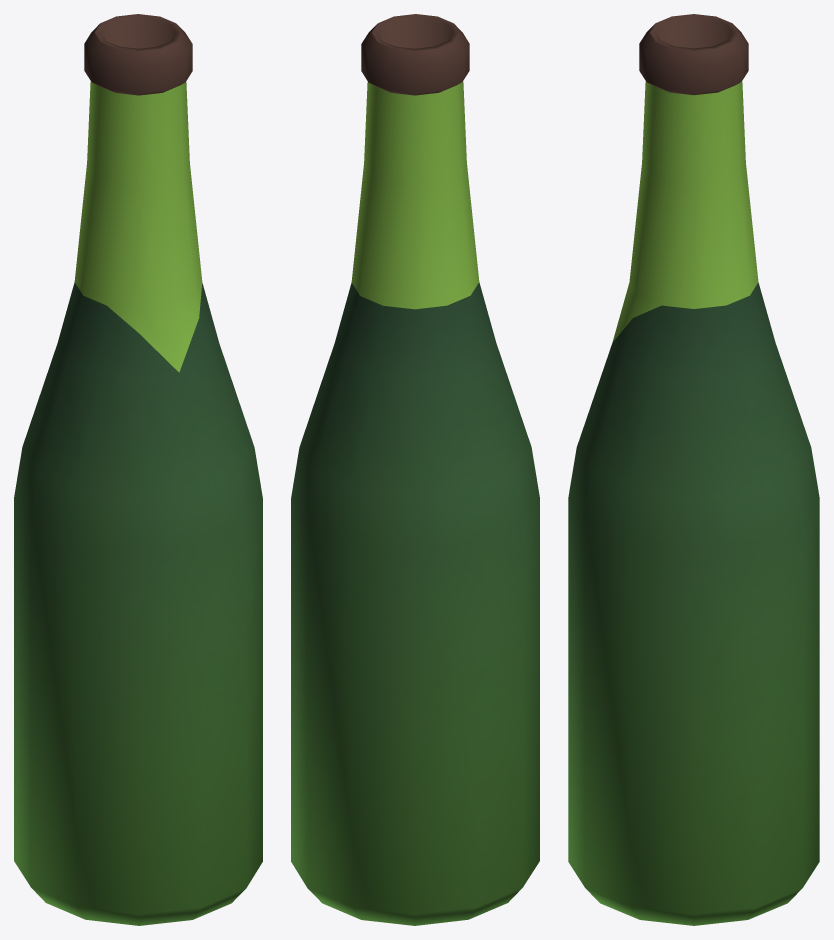
The model's file is Bottle06.fbx.
3 views of the same model, side by side, from view 1: azimuth 30°, elevation 25°; view 2: azimuth 150°, elevation 25°; view 3: azimuth 270°, elevation 25° (orthographic).
Parts seen in each view (by area): view 1: Bottle06; view 2: Bottle06; view 3: Bottle06.
Part boxes in pixels (box(x1,y1,x2,y2)): Bottle06: box(14, 14, 262, 925); Bottle06: box(291, 14, 539, 925); Bottle06: box(568, 14, 819, 925).
Size of the model in its own units: 6.54 by 24.65 by 6.62.
